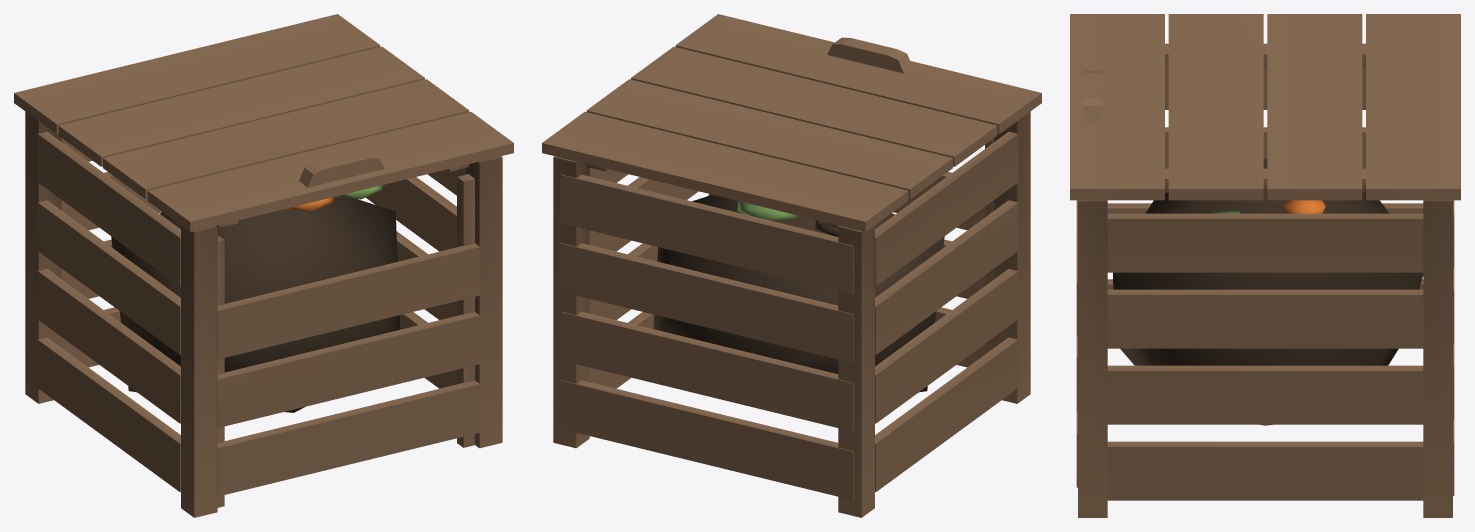
The model's file is compostBin.far.glb.
3 renders of one model, left to right at view 1: azimuth 30°, elevation 25°; view 2: azimuth 150°, elevation 25°; view 3: azimuth 270°, elevation 25°, orthographic. The views are drawn at different scales.
Parts seen in each view (by area): view 1: compostBin; view 2: compostBin; view 3: compostBin.
Boxes of the visible parts, bbox=[...] form: compostBin: bbox=[14, 14, 513, 517]; compostBin: bbox=[542, 14, 1041, 517]; compostBin: bbox=[1070, 14, 1460, 517].
Bounding box in the file's own units: 0.84 × 0.78 × 0.792.
